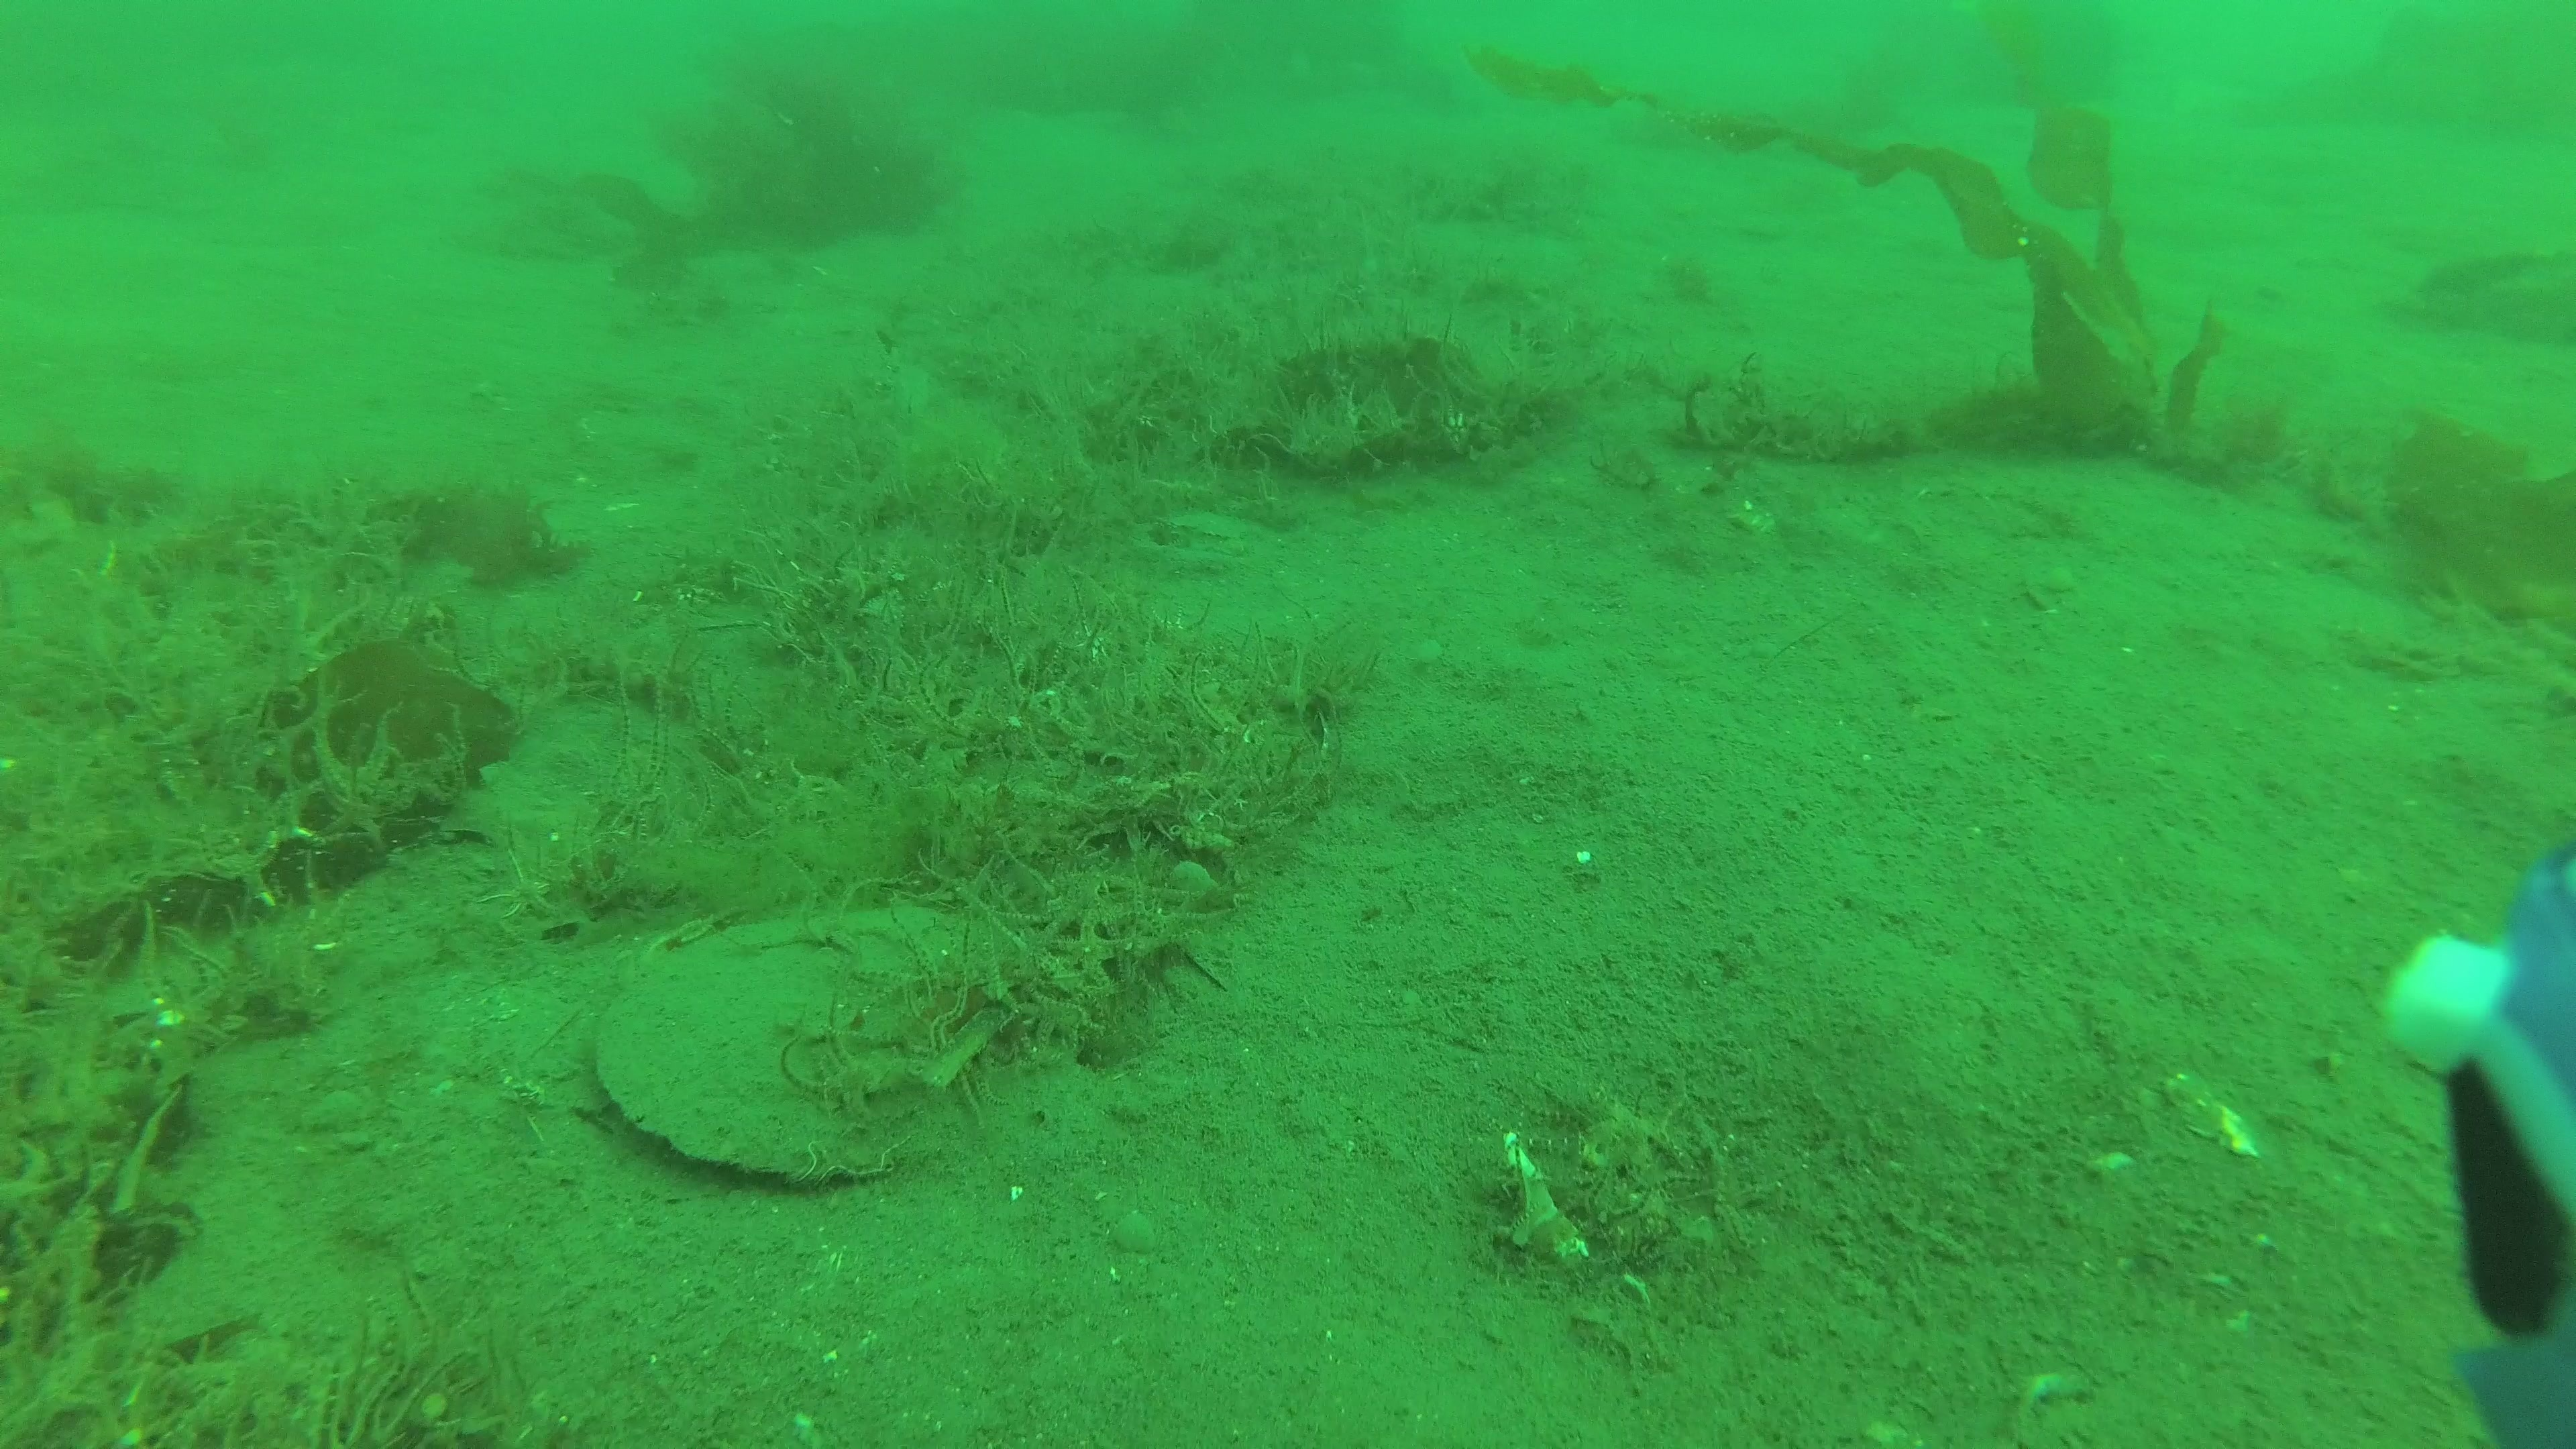scallop: (591, 902, 1000, 1191)
